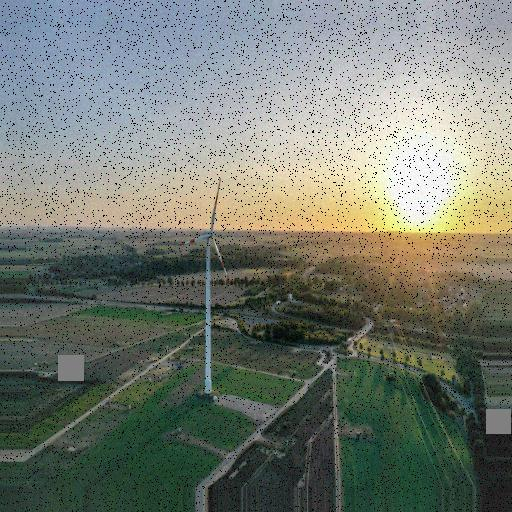wind turbine: (173, 176, 229, 398)
